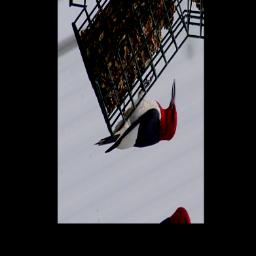Woodpecker: (90, 62, 182, 180)
